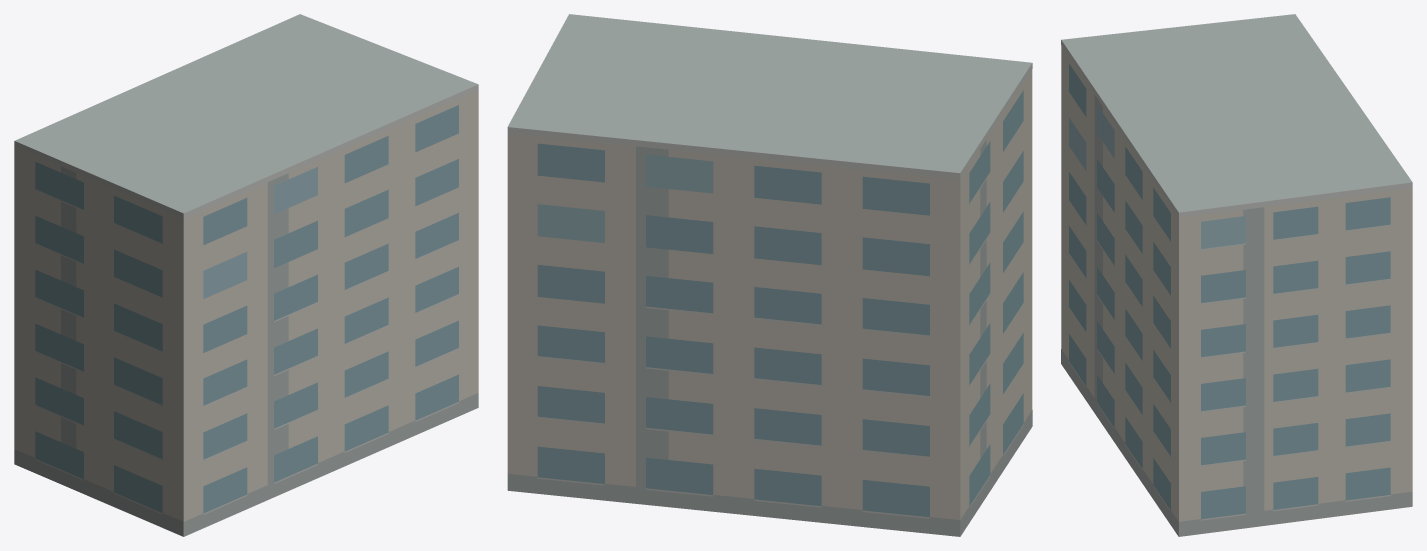
The model's file is survey-upis-32564666.glb.
3 views of the same model, side by side, from view 1: azimuth 30°, elevation 25°; view 2: azimuth 150°, elevation 25°; view 3: azimuth 270°, elevation 25° (orthographic). The views are drawn at different scales.
Parts seen in each view (by area): view 1: survey-upis-32564666.tmp; view 2: survey-upis-32564666.tmp; view 3: survey-upis-32564666.tmp.
Boxes of the visible parts, x1,y1,x2,y2 form: survey-upis-32564666.tmp: (14, 14, 478, 536); survey-upis-32564666.tmp: (507, 14, 1032, 536); survey-upis-32564666.tmp: (1061, 14, 1412, 536).
Size of the model in its own units: 18.79 by 14.3 by 14.06.
